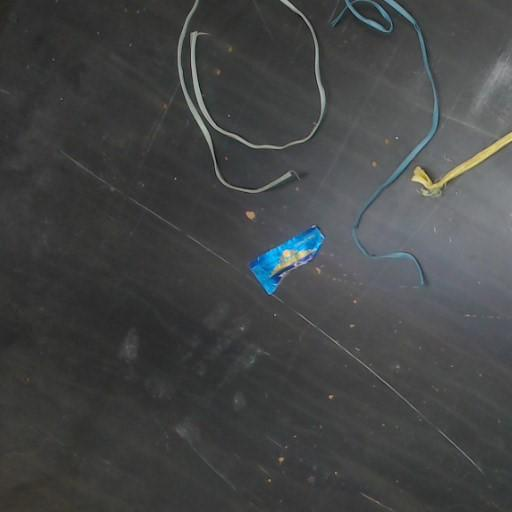conveyor belt: (399, 0, 511, 170), (191, 0, 319, 142)
packet: (250, 226, 324, 293)
thread: (177, 0, 325, 193), (352, 0, 439, 285), (411, 131, 511, 195), (331, 0, 393, 33)
